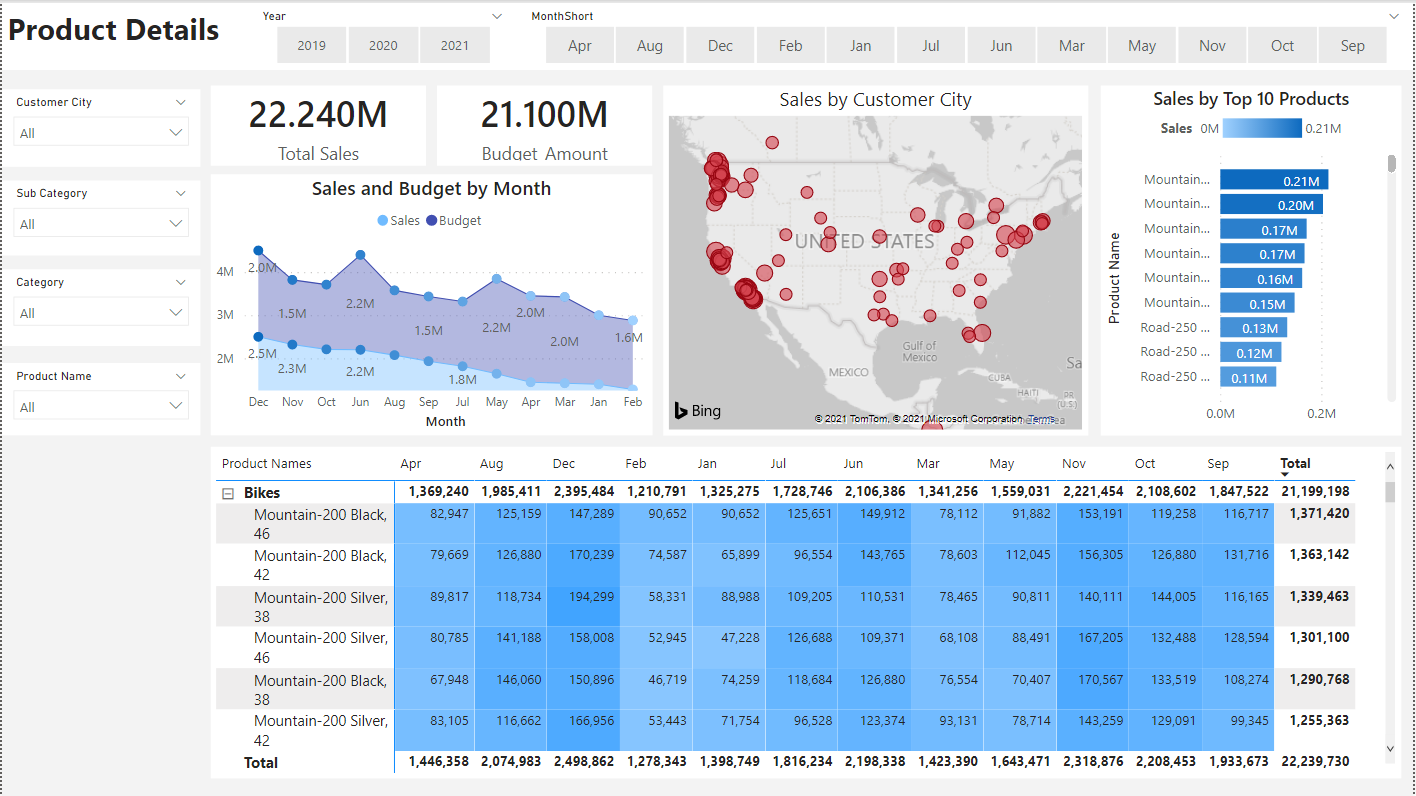

What the dashboard file says about the page in this screenshot:
{"tool":"powerbi","page":{"name":"Product Details","canvas":[1280,720],"ordinal":2},"visuals":[{"type":"textbox","box":[0,0,1280,61.1],"z":0},{"type":"slicer","fields":{"Values":["DIM_Customer.Customer City"]},"box":[0,77.8,179.6,70.6],"z":1000},{"type":"slicer","fields":{"Values":["DIM_Products.Sub Category"]},"box":[0,160.4,179.6,68.3],"z":2000},{"type":"slicer","fields":{"Values":["DIM_Products.Product Category"]},"box":[0,241.9,179.6,69.4],"z":3000},{"type":"slicer","fields":{"Values":["DIM_Products.Product Name"]},"box":[0,326.9,179.6,65.9],"z":4000},{"type":"slicer","fields":{"Values":["Dim_Date_Excel.Year"]},"box":[223.9,0,243.1,61.1],"z":5000},{"type":"slicer","fields":{"Values":["Dim_Date_Excel.MonthShort"]},"box":[467,0,813,61.1],"z":6000},{"type":"barChart","title":"Sales by Top 10 Products","fields":{"Y":["Key Measures.Sales"],"Category":["DIM_Products.Product Name"]},"box":[996.6,74.9,272.9,317.4],"z":7000},{"type":"pivotTable","fields":{"Values":["Key Measures.Sales"],"Columns":["Dim_Date_Excel.MonthShort"],"Rows":["DIM_Products.Product Category","DIM_Products.Product Name"]},"box":[189.7,402.9,1079.7,301],"z":8000},{"type":"card","title":"Total Sales","fields":{"Values":["Key Measures.Sales"]},"box":[189.7,74.9,195.6,72.6],"z":9000},{"type":"card","title":"Total Sales","fields":{"Values":["Key Measures.Budget_Amount"]},"box":[394.7,74.9,195.6,72.6],"z":10000},{"type":"stackedAreaChart","fields":{"Category":["Dim_Date_Excel.MonthShort"],"Y":["Key Measures.Sales","Key Measures.Budget_Amount"]},"box":[189.7,155.8,400.5,236.6],"z":11000},{"type":"map","fields":{"Category":["DIM_Customer.Customer City"],"Size":["Key Measures.Sales"]},"box":[599.6,74.9,385.3,317.4],"z":12000}]}

Visuals, with their boxes in screenshot pixels (x1, y1, x2, y2), scaled from the page's 1280x720 canvas onto the 1416x796 screenshot:
textbox: (left=0, top=0, right=1415, bottom=68)
slicer - DIM_Customer.Customer City: (left=0, top=86, right=199, bottom=164)
slicer - DIM_Products.Sub Category: (left=0, top=177, right=199, bottom=253)
slicer - DIM_Products.Product Category: (left=0, top=267, right=199, bottom=344)
slicer - DIM_Products.Product Name: (left=0, top=361, right=199, bottom=434)
slicer - Dim_Date_Excel.Year: (left=248, top=0, right=517, bottom=68)
slicer - Dim_Date_Excel.MonthShort: (left=517, top=0, right=1415, bottom=68)
"Sales by Top 10 Products" barChart: (left=1102, top=83, right=1404, bottom=434)
pivotTable - Key Measures.Sales x Dim_Date_Excel.MonthShort: (left=210, top=445, right=1404, bottom=778)
"Total Sales" card: (left=210, top=83, right=426, bottom=163)
"Total Sales" card: (left=437, top=83, right=653, bottom=163)
stackedAreaChart - Dim_Date_Excel.MonthShort x Key Measures.Sales: (left=210, top=172, right=653, bottom=434)
map - DIM_Customer.Customer City x Key Measures.Sales: (left=663, top=83, right=1090, bottom=434)
